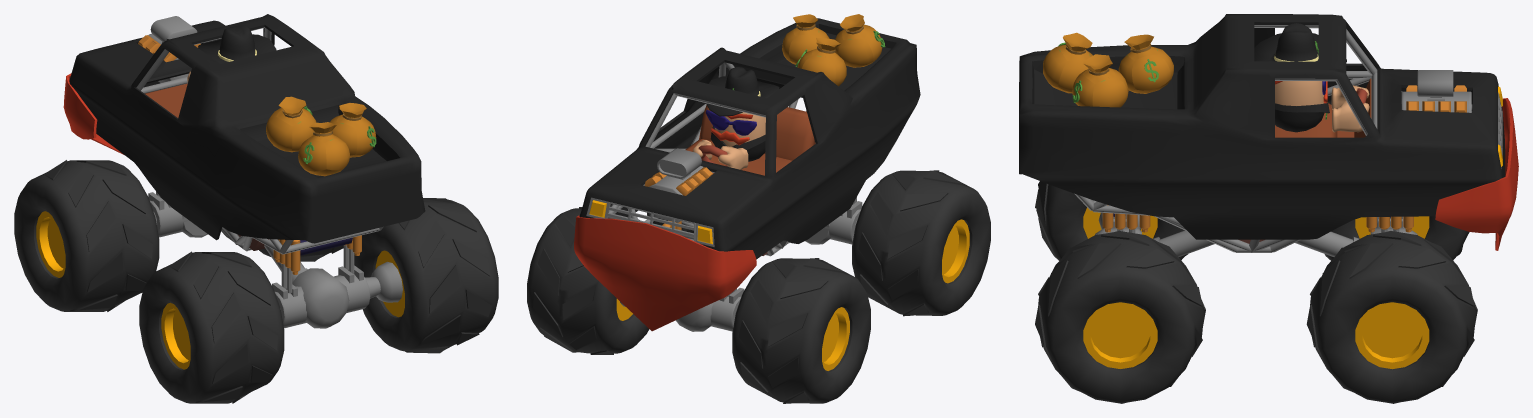
The model's file is monstertruck_01.FBX.
3 renders of one model, left to right at view 1: azimuth 30°, elevation 25°; view 2: azimuth 150°, elevation 25°; view 3: azimuth 270°, elevation 25°, orthographic. The views are drawn at different scales.
Parts seen in each view (by area): view 1: msh_exo_squeleton_00, msh_big_wheel_00, msh_big_wheel_03, msh_big_wheel_02, msh_differencial_00, msh_swagbag_01, msh_swagbag_02, msh_cage_00, msh_hat_007, msh_swagbag_00, msh_bumper_01, msh_engine_00 (+4 smaller); view 2: msh_exo_squeleton_00, msh_big_wheel_03, msh_big_wheel_00, msh_bumper_01, msh_big_wheel_01, msh_chair_00, msh_engine_00, msh_swagbag_01, msh_cage_00, msh_grill_00, msh_differencial_01, msh_swagbag_02 (+7 smaller); view 3: msh_exo_squeleton_00, msh_big_wheel_01, msh_big_wheel_02, msh_bumper_01, msh_big_wheel_00, msh_cage_00, msh_engine_00, msh_swagbag_02, msh_swagbag_00, msh_swagbag_01, msh_big_wheel_03, msh_hat_007 (+8 smaller).
Boxes of the visible parts, bbox=[...] form: msh_exo_squeleton_00: bbox=[69, 14, 425, 243]; msh_big_wheel_00: bbox=[139, 251, 284, 403]; msh_big_wheel_03: bbox=[14, 160, 159, 311]; msh_big_wheel_02: bbox=[354, 198, 498, 353]; msh_differencial_00: bbox=[264, 239, 402, 328]; msh_swagbag_01: bbox=[298, 122, 349, 176]; msh_swagbag_02: bbox=[266, 96, 316, 152]; msh_cage_00: bbox=[136, 27, 383, 254]; msh_hat_007: bbox=[198, 25, 276, 63]; msh_swagbag_00: bbox=[329, 103, 376, 157]; msh_bumper_01: bbox=[63, 73, 123, 154]; msh_engine_00: bbox=[138, 16, 200, 82]; msh_exo_squeleton_00: bbox=[579, 18, 920, 259]; msh_big_wheel_03: bbox=[732, 258, 870, 403]; msh_big_wheel_00: bbox=[852, 170, 990, 316]; msh_bumper_01: bbox=[574, 215, 756, 331]; msh_big_wheel_01: bbox=[527, 207, 649, 354]; msh_chair_00: bbox=[685, 105, 814, 175]; msh_engine_00: bbox=[644, 148, 712, 222]; msh_swagbag_01: bbox=[835, 14, 885, 67]; msh_cage_00: bbox=[607, 62, 806, 256]; msh_grill_00: bbox=[586, 197, 714, 246]; msh_differencial_01: bbox=[620, 288, 744, 331]; msh_swagbag_02: bbox=[795, 37, 846, 86]; msh_exo_squeleton_00: bbox=[1019, 14, 1505, 239]; msh_big_wheel_01: bbox=[1306, 231, 1477, 403]; msh_big_wheel_02: bbox=[1035, 230, 1205, 403]; msh_bumper_01: bbox=[1435, 98, 1518, 250]; msh_big_wheel_00: bbox=[1035, 181, 1187, 260]; msh_cage_00: bbox=[1074, 25, 1472, 252]; msh_engine_00: bbox=[1401, 70, 1471, 112]; msh_swagbag_02: bbox=[1118, 34, 1173, 93]; msh_swagbag_00: bbox=[1072, 54, 1128, 107]; msh_swagbag_01: bbox=[1043, 32, 1092, 93]; msh_big_wheel_03: bbox=[1324, 216, 1469, 260]; msh_hat_007: bbox=[1254, 23, 1346, 61].
Size of the model in its own units: 589 by 540 by 789.
